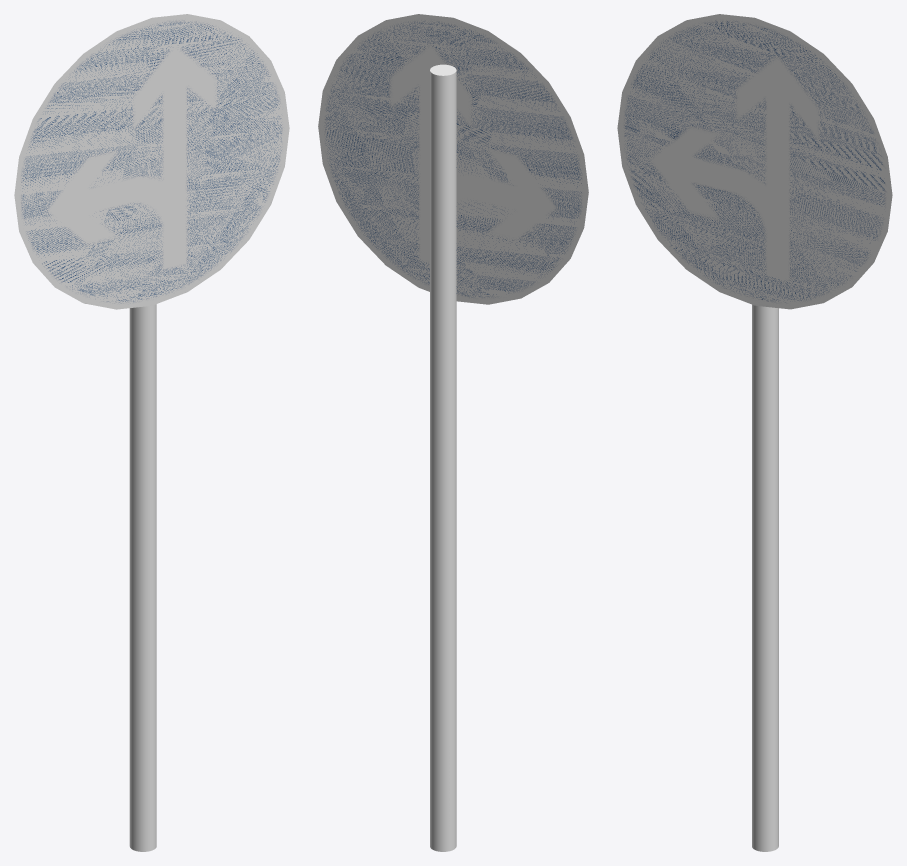
3 renders of one model, left to right at view 1: azimuth 30°, elevation 25°; view 2: azimuth 150°, elevation 25°; view 3: azimuth 330°, elevation 25°, orthographic.
Visible parts, largest first — view 1: SketchUp (×2); view 2: SketchUp (×2); view 3: SketchUp (×2).
Part boxes in pixels (left/top/right/bottom): SketchUp (×2): left=14, top=14, right=289, bottom=851; SketchUp (×2): left=318, top=14, right=588, bottom=851; SketchUp (×2): left=617, top=14, right=892, bottom=851.
Size of the model in its own units: 74.02 by 7.6 by 215.
Materials: 2 (1 with a texture image).
